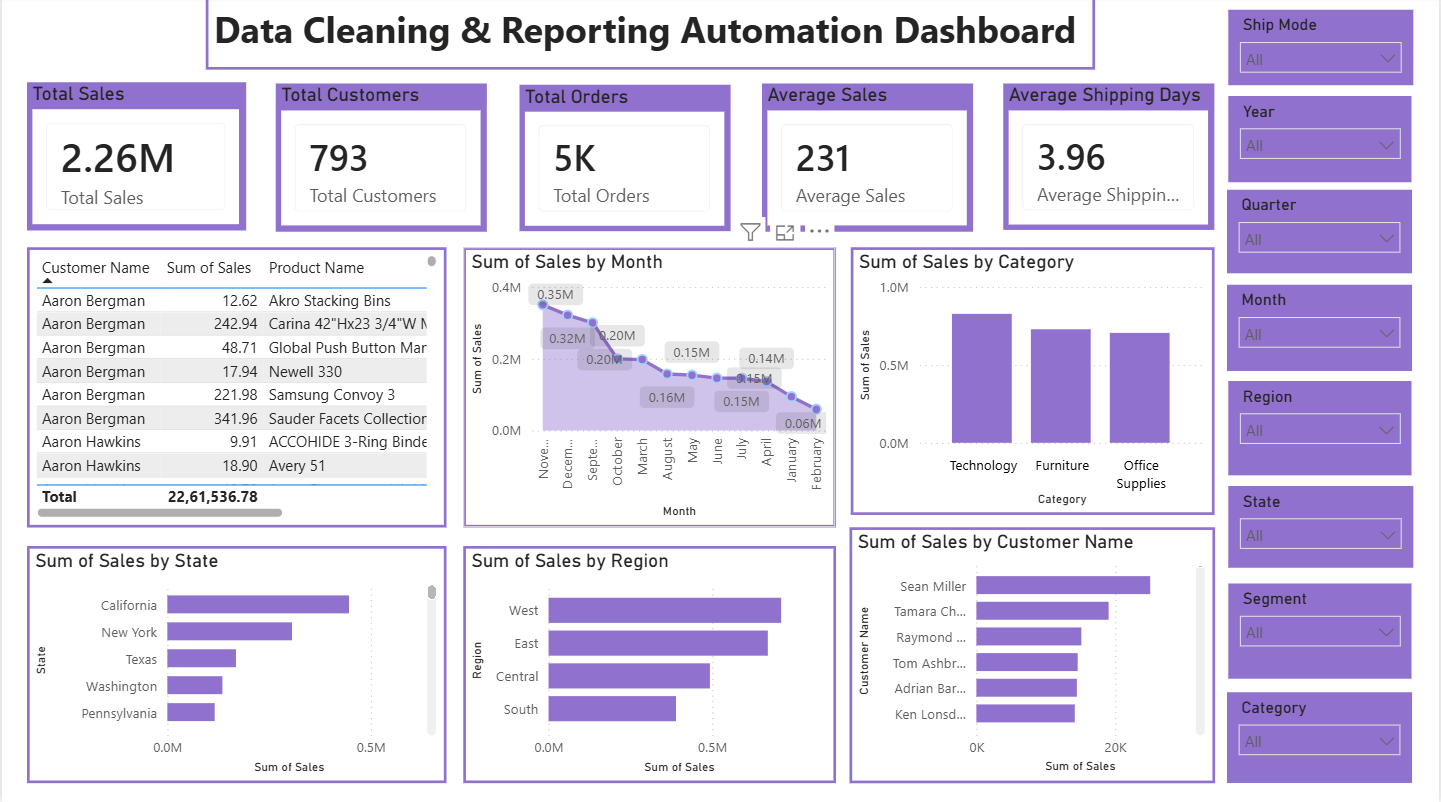

This screenshot's page, from the dashboard's own definition file:
{"tool":"powerbi","page":{"name":"Page 1","canvas":[1280,720],"ordinal":0},"visuals":[{"type":"cardVisual","title":"Total Sales","fields":{"Data":["cleaned_sales_data.Total Sales"]},"box":[22,76.8,194.9,131.7],"z":0},{"type":"cardVisual","title":"Total Orders","fields":{"Data":["cleaned_sales_data.Total Orders"]},"box":[461.1,79.6,188,130.4],"z":1000},{"type":"cardVisual","title":"Total Customers","fields":{"Data":["cleaned_sales_data.Total Customers"]},"box":[244.3,78.2,188,131.7],"z":2000},{"type":"cardVisual","title":"Average Sales","fields":{"Data":["cleaned_sales_data.Average Sales"]},"box":[676.5,78.2,188,131.7],"z":3000},{"type":"cardVisual","title":"Average Shipping Days","fields":{"Data":["cleaned_sales_data.Average Shipping Days"]},"box":[891.9,78.2,188,130.4],"z":4000},{"type":"lineChart","fields":{"Category":["cleaned_sales_data.Month"],"Y":["Sum(cleaned_sales_data.Sales)"]},"box":[410.3,223.7,332.1,249.7],"z":5000},{"type":"clusteredColumnChart","fields":{"Category":["cleaned_sales_data.Category"],"Y":["Sum(cleaned_sales_data.Sales)"]},"box":[756.1,223.7,323.8,238.8],"z":6000},{"type":"clusteredBarChart","fields":{"Category":["cleaned_sales_data.Region"],"Y":["Sum(cleaned_sales_data.Sales)"]},"box":[410.3,489.9,332.1,211.3],"z":7000},{"type":"clusteredBarChart","fields":{"Category":["cleaned_sales_data.State"],"Y":["Sum(cleaned_sales_data.Sales)"]},"box":[22,489.9,373.2,211.3],"z":8000},{"type":"clusteredBarChart","fields":{"Category":["cleaned_sales_data.Customer Name"],"Y":["Sum(cleaned_sales_data.Sales)"]},"box":[754.7,473.4,325.2,227.8],"z":9000},{"type":"tableEx","fields":{"Values":["cleaned_sales_data.Customer Name","Sum(cleaned_sales_data.Sales)","cleaned_sales_data.Product Name"]},"box":[22,223.7,373.2,249.7],"z":10000},{"type":"slicer","fields":{"Values":["cleaned_sales_data.Year"]},"box":[1092.3,89.2,163.3,76.8],"z":11000},{"type":"slicer","fields":{"Values":["cleaned_sales_data.Quarter"]},"box":[1090.9,172.9,164.7,74.1],"z":12000},{"type":"slicer","fields":{"Values":["cleaned_sales_data.Month"]},"box":[1090.9,256.6,164.7,76.8],"z":13000},{"type":"slicer","fields":{"Values":["cleaned_sales_data.Region"]},"box":[1092.3,343.1,163.3,83.7],"z":14000},{"type":"slicer","fields":{"Values":["cleaned_sales_data.State"]},"box":[1092.3,436.4,164.7,72.7],"z":15000},{"type":"slicer","fields":{"Values":["cleaned_sales_data.Segment"]},"box":[1092.3,522.8,163.3,85.1],"z":16000},{"type":"slicer","fields":{"Values":["cleaned_sales_data.Category"]},"box":[1090.9,620.2,164.7,81],"z":17000},{"type":"slicer","fields":{"Values":["cleaned_sales_data.Ship Mode"]},"box":[1092.3,12.3,164.7,67.2],"z":18000},{"type":"textbox","box":[181.1,0,791.8,65.9],"z":18001}]}

Visuals, with their boxes in screenshot pixels (x1, y1, x2, y2), scaled from the page's 1280x720 canvas onto the 1441x802 screenshot:
"Total Sales" cardVisual: x1=25, y1=86, x2=244, y2=232
"Total Orders" cardVisual: x1=519, y1=89, x2=731, y2=234
"Total Customers" cardVisual: x1=275, y1=87, x2=487, y2=234
"Average Sales" cardVisual: x1=762, y1=87, x2=973, y2=234
"Average Shipping Days" cardVisual: x1=1004, y1=87, x2=1216, y2=232
lineChart - cleaned_sales_data.Month x Sum(cleaned_sales_data.Sales): x1=462, y1=249, x2=836, y2=527
clusteredColumnChart - cleaned_sales_data.Category x Sum(cleaned_sales_data.Sales): x1=851, y1=249, x2=1216, y2=515
clusteredBarChart - cleaned_sales_data.Region x Sum(cleaned_sales_data.Sales): x1=462, y1=546, x2=836, y2=781
clusteredBarChart - cleaned_sales_data.State x Sum(cleaned_sales_data.Sales): x1=25, y1=546, x2=445, y2=781
clusteredBarChart - cleaned_sales_data.Customer Name x Sum(cleaned_sales_data.Sales): x1=850, y1=527, x2=1216, y2=781
tableEx - cleaned_sales_data.Customer Name x Sum(cleaned_sales_data.Sales): x1=25, y1=249, x2=445, y2=527
slicer - cleaned_sales_data.Year: x1=1230, y1=99, x2=1414, y2=185
slicer - cleaned_sales_data.Quarter: x1=1228, y1=193, x2=1414, y2=275
slicer - cleaned_sales_data.Month: x1=1228, y1=286, x2=1414, y2=371
slicer - cleaned_sales_data.Region: x1=1230, y1=382, x2=1414, y2=475
slicer - cleaned_sales_data.State: x1=1230, y1=486, x2=1415, y2=567
slicer - cleaned_sales_data.Segment: x1=1230, y1=582, x2=1414, y2=677
slicer - cleaned_sales_data.Category: x1=1228, y1=691, x2=1414, y2=781
slicer - cleaned_sales_data.Ship Mode: x1=1230, y1=14, x2=1415, y2=89
textbox: x1=204, y1=0, x2=1095, y2=73
